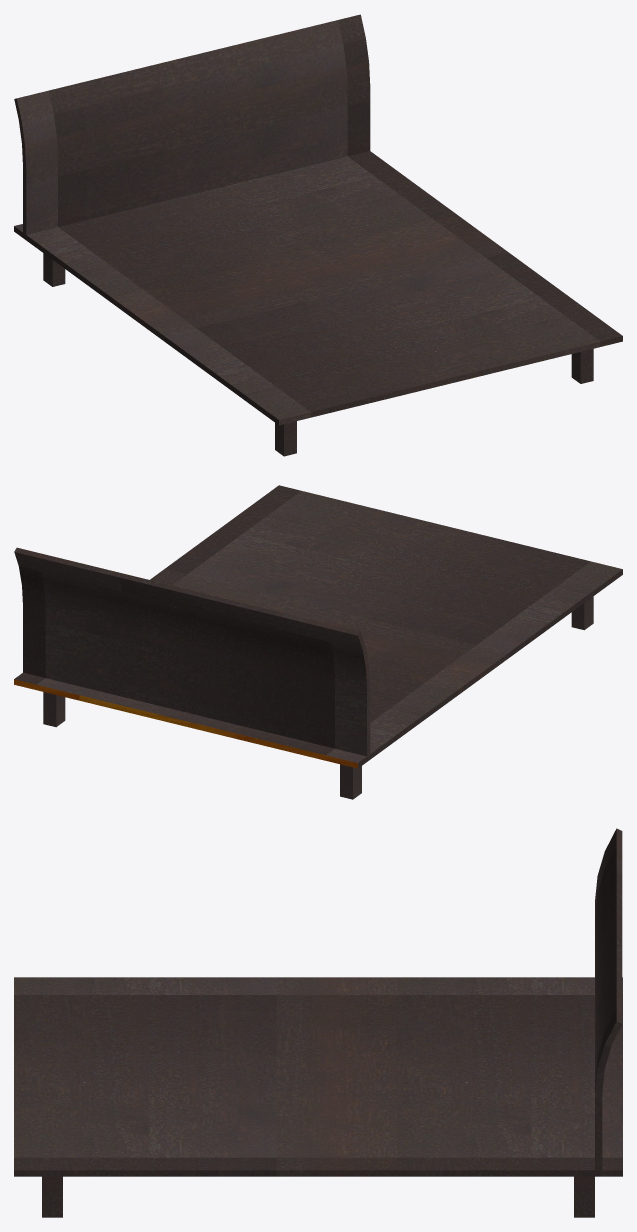
File: bed.obj
3 views of the same model, one above another, from view 1: azimuth 30°, elevation 25°; view 2: azimuth 150°, elevation 25°; view 3: azimuth 270°, elevation 25° (orthographic). The views are drawn at different scales.
Parts seen in each view (by area): view 1: Mesh5 Group1 Model, Mesh4 foot_1_4 Group1 Model, Mesh2 foot_1_2 Group1 Model; view 2: Mesh5 Group1 Model, Mesh3 foot_1_3 Group1 Model, Mesh1 foot_1_1 Group1 Model, Mesh2 foot_1_2 Group1 Model; view 3: Mesh5 Group1 Model, Mesh3 foot_1_3 Group1 Model, Mesh4 foot_1_4 Group1 Model.
Part boxes in pixels (x1,y1,x2,y2): Mesh5 Group1 Model: [14, 14, 622, 425]; Mesh4 foot_1_4 Group1 Model: [571, 348, 593, 383]; Mesh2 foot_1_2 Group1 Model: [275, 421, 296, 456]; Mesh5 Group1 Model: [14, 485, 622, 768]; Mesh3 foot_1_3 Group1 Model: [43, 692, 65, 727]; Mesh1 foot_1_1 Group1 Model: [340, 764, 361, 799]; Mesh2 foot_1_2 Group1 Model: [571, 596, 593, 630]; Mesh5 Group1 Model: [14, 828, 622, 1176]; Mesh3 foot_1_3 Group1 Model: [574, 1176, 594, 1217]; Mesh4 foot_1_4 Group1 Model: [42, 1176, 62, 1217].
Size of the model in its own units: 71.15 by 35.44 by 94.91.
2 materials, 2 textured.
